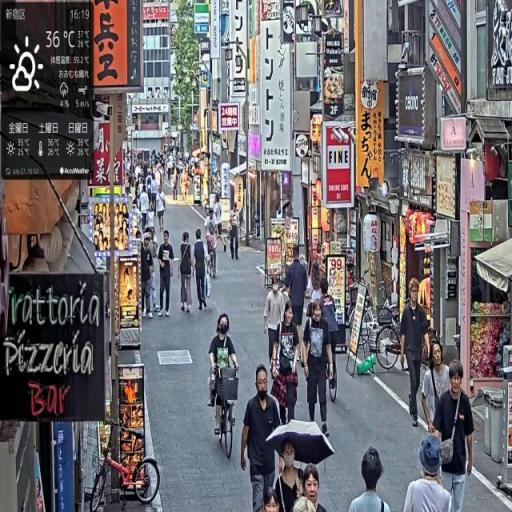person: (241, 364, 286, 512), (433, 362, 476, 511), (400, 280, 433, 429), (301, 297, 335, 440), (208, 312, 240, 442), (405, 433, 454, 512), (276, 302, 304, 427), (421, 340, 454, 437), (263, 274, 290, 381), (349, 448, 392, 512), (273, 435, 304, 512), (294, 465, 328, 512), (158, 228, 175, 319), (194, 229, 211, 314), (141, 233, 156, 322), (180, 231, 195, 316), (206, 207, 220, 277), (158, 187, 167, 233)
